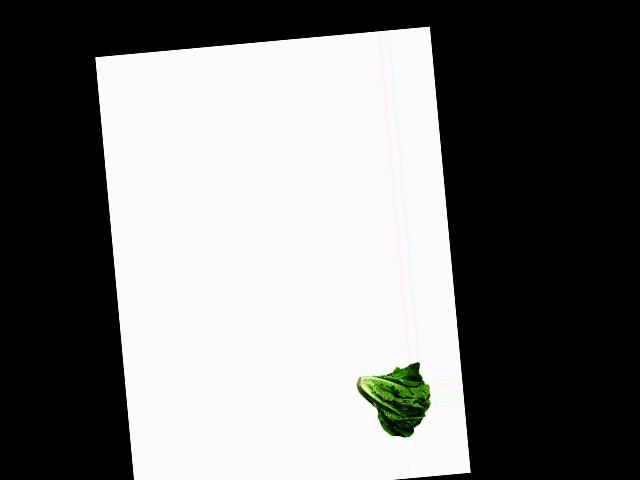lettuce: (351, 362, 434, 442)
